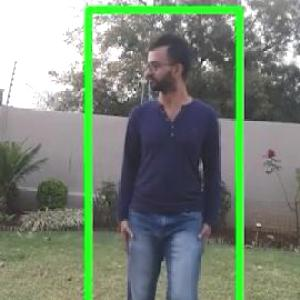follow: (106, 24, 230, 299)
